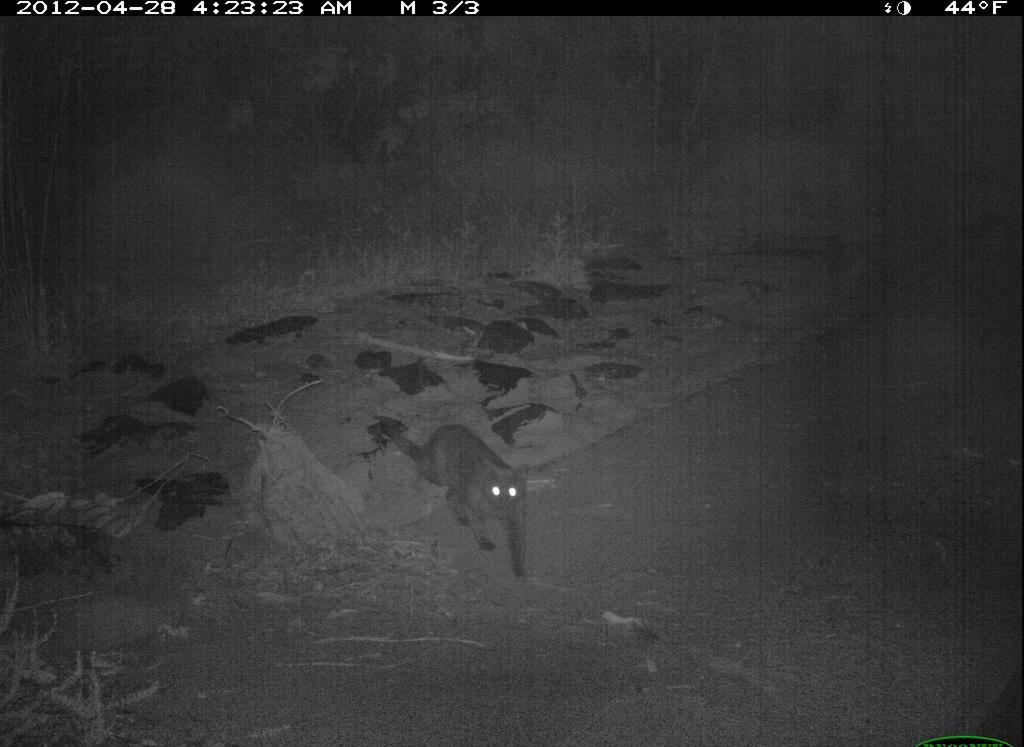cat: (377, 396, 545, 594)
